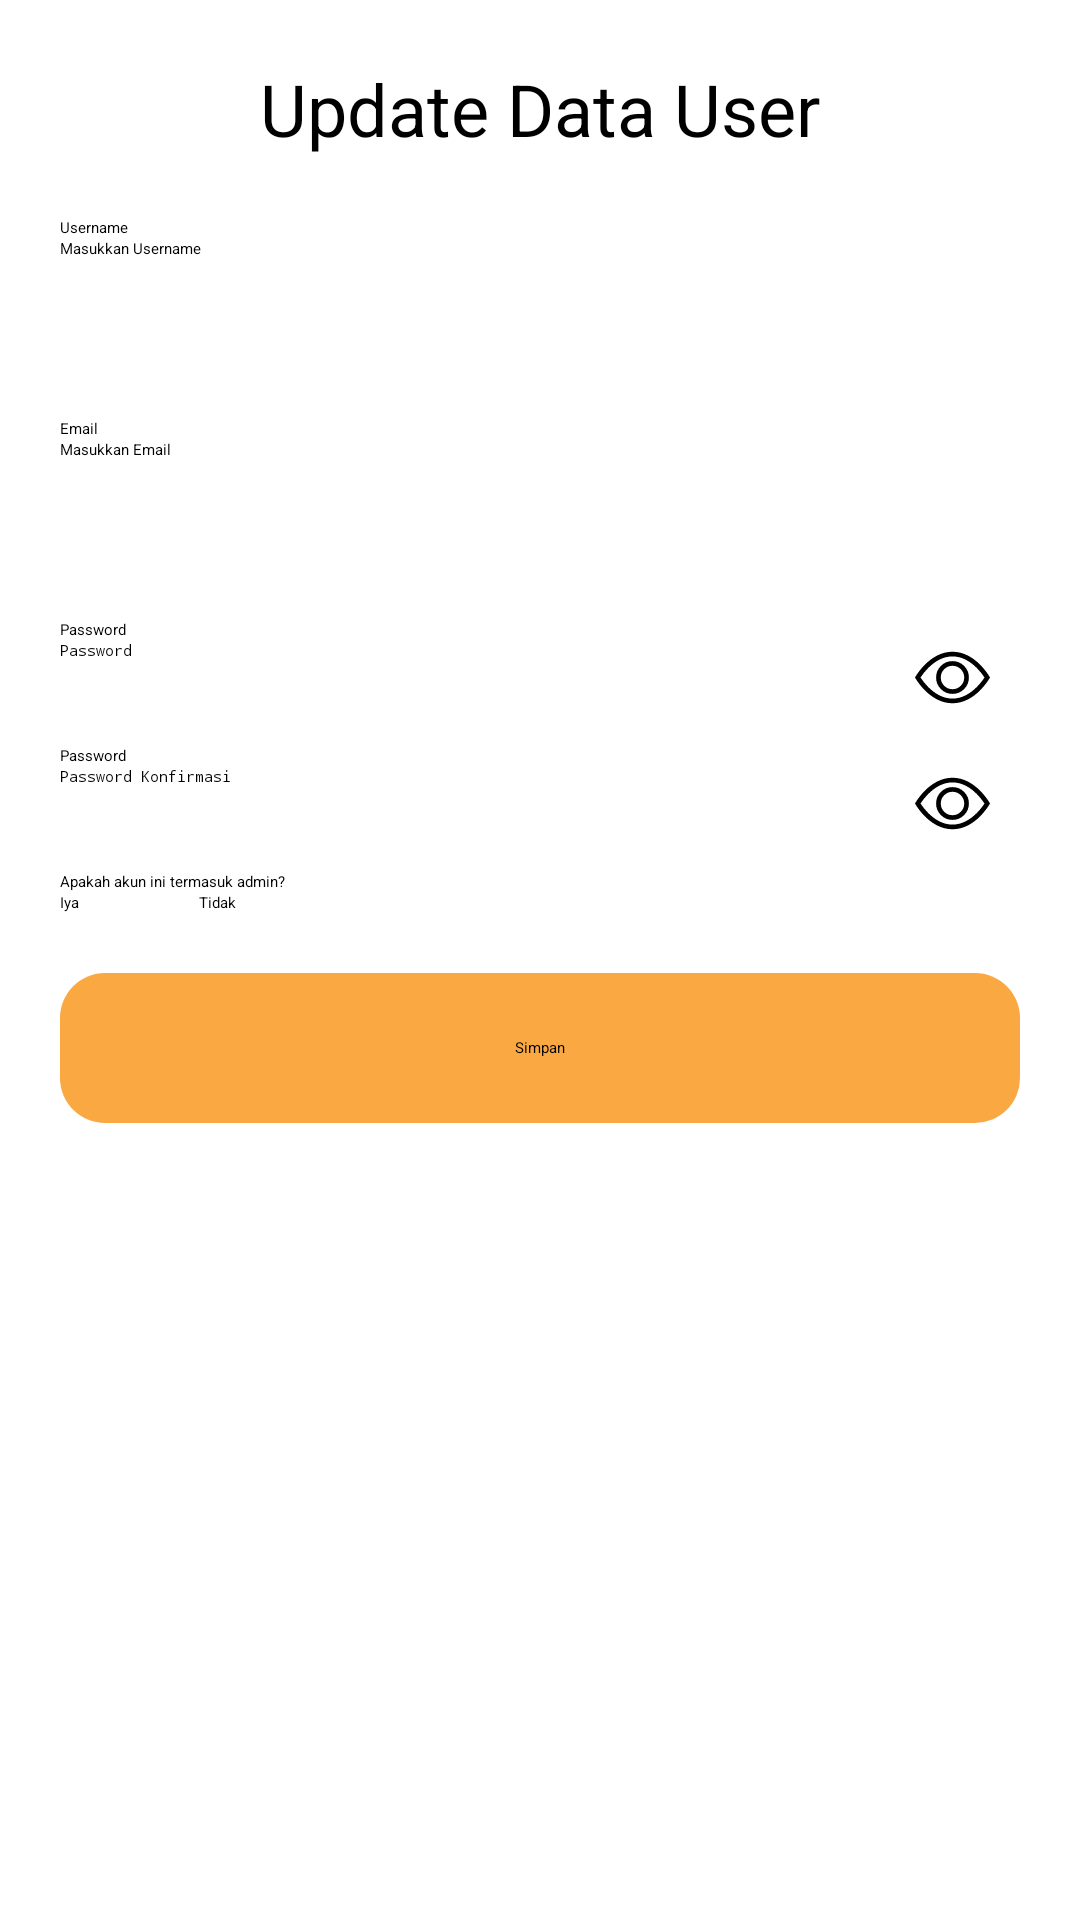

Icon bounding boxes for this 1080×1920 phone screenshot, format bbox=(x1, y1, x2, y2):
eye: bbox=(915, 651, 990, 704), bbox=(915, 777, 990, 830)
